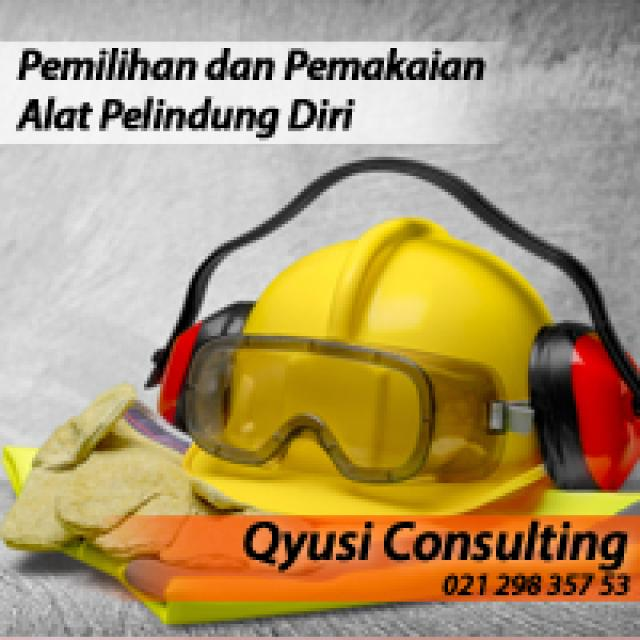glasses: (185, 326, 510, 482)
